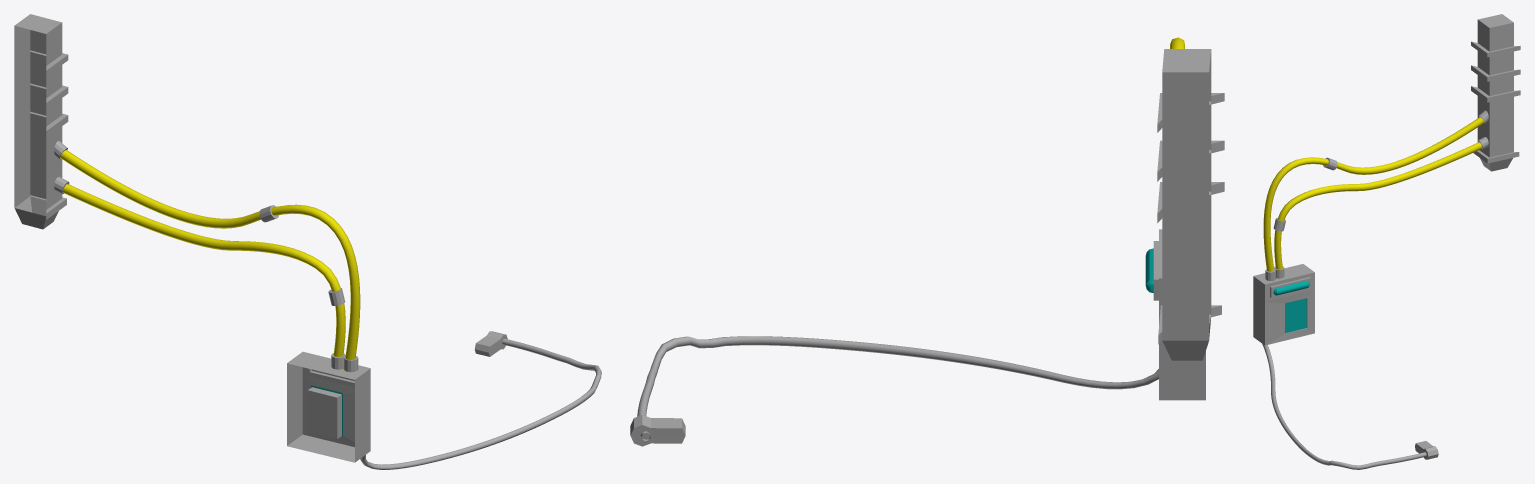
File: _ANM_ElectricBrake.fbx
3 views of the same model, side by side, from view 1: azimuth 30°, elevation 25°; view 2: azimuth 150°, elevation 25°; view 3: azimuth 270°, elevation 25° (orthographic). The views are drawn at different scales.
Parts seen in each view (by area): view 1: ElectricBox, ElectricBrakeBody, CNT_PowerWire1, CNT_PowerWire2, WireToCenterPivot; view 2: ElectricBox, WireToCenterPivot, ElectricBrakeBody, WireTube7; view 3: ElectricBox, ElectricBrakeBody, CNT_PowerWire1, CNT_PowerWire2, WireToCenterPivot, ANM_ElectricBrakePanel, WireTube7.
Boxes of the visible parts, x1=… form: ElectricBox: x1=14, y1=14, x2=68, y2=229; ElectricBrakeBody: x1=287, y1=351, x2=370, y2=462; CNT_PowerWire1: x1=60, y1=150, x2=360, y2=370; CNT_PowerWire2: x1=62, y1=184, x2=345, y2=356; WireToCenterPivot: x1=360, y1=338, x2=601, y2=469; ElectricBox: x1=1157, y1=49, x2=1224, y2=360; WireToCenterPivot: x1=637, y1=336, x2=1158, y2=440; ElectricBrakeBody: x1=1153, y1=229, x2=1205, y2=400; WireTube7: x1=630, y1=415, x2=685, y2=446; ElectricBox: x1=1471, y1=14, x2=1520, y2=171; ElectricBrakeBody: x1=1253, y1=264, x2=1314, y2=345; CNT_PowerWire1: x1=1263, y1=117, x2=1484, y2=271; CNT_PowerWire2: x1=1274, y1=142, x2=1482, y2=269; WireToCenterPivot: x1=1262, y1=343, x2=1426, y2=469; ANM_ElectricBrakePanel: x1=1285, y1=298, x2=1306, y2=333; WireTube7: x1=1415, y1=441, x2=1438, y2=459.
Size of the model in its own units: 34.42 by 26.95 by 22.63.
